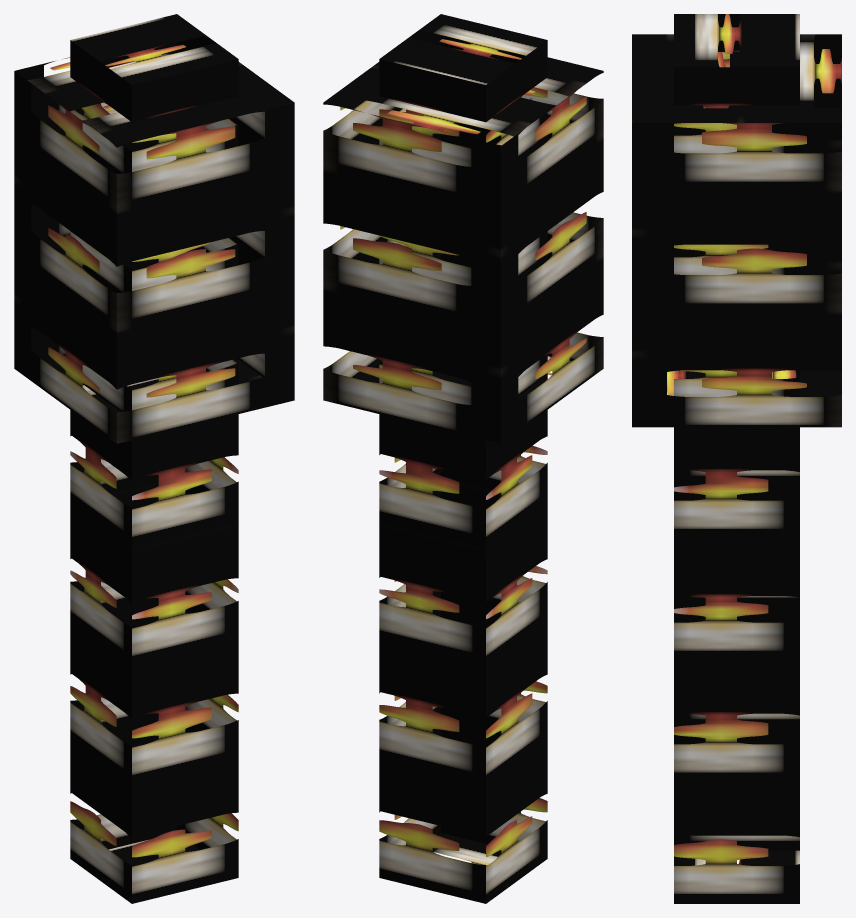
3 views of the same model, side by side, from view 1: azimuth 30°, elevation 25°; view 2: azimuth 150°, elevation 25°; view 3: azimuth 270°, elevation 25° (orthographic). The views are drawn at different scales.
Visible parts, largest first — view 1: stick, torch; view 2: stick, torch; view 3: stick, torch.
Part boxes in pixels (bbox=[...]): stick: bbox=[70, 14, 238, 903]; torch: bbox=[14, 51, 294, 443]; stick: bbox=[379, 14, 547, 903]; torch: bbox=[323, 57, 603, 443]; stick: bbox=[674, 14, 799, 903]; torch: bbox=[632, 34, 841, 427].
Size of the model in its own units: 0.1562 by 0.6875 by 0.1562.
